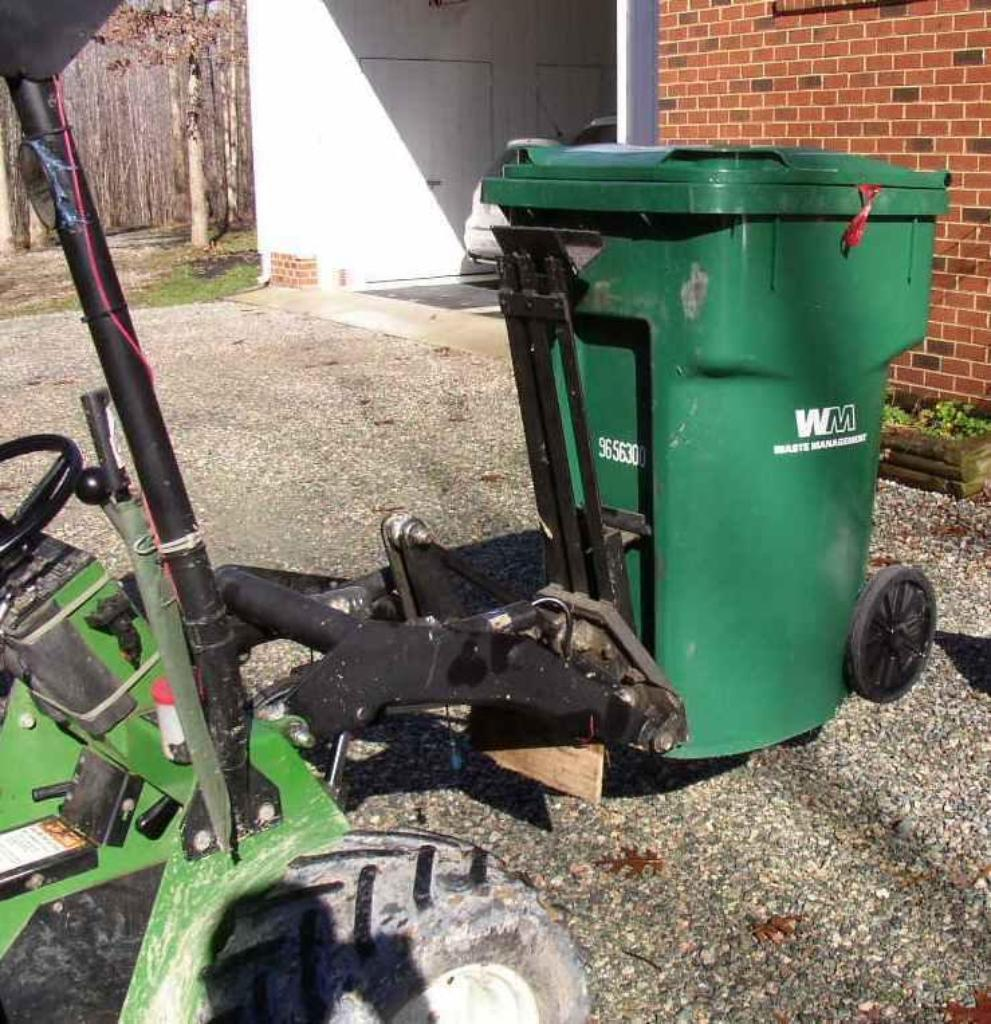dustbin: (476, 139, 964, 801)
